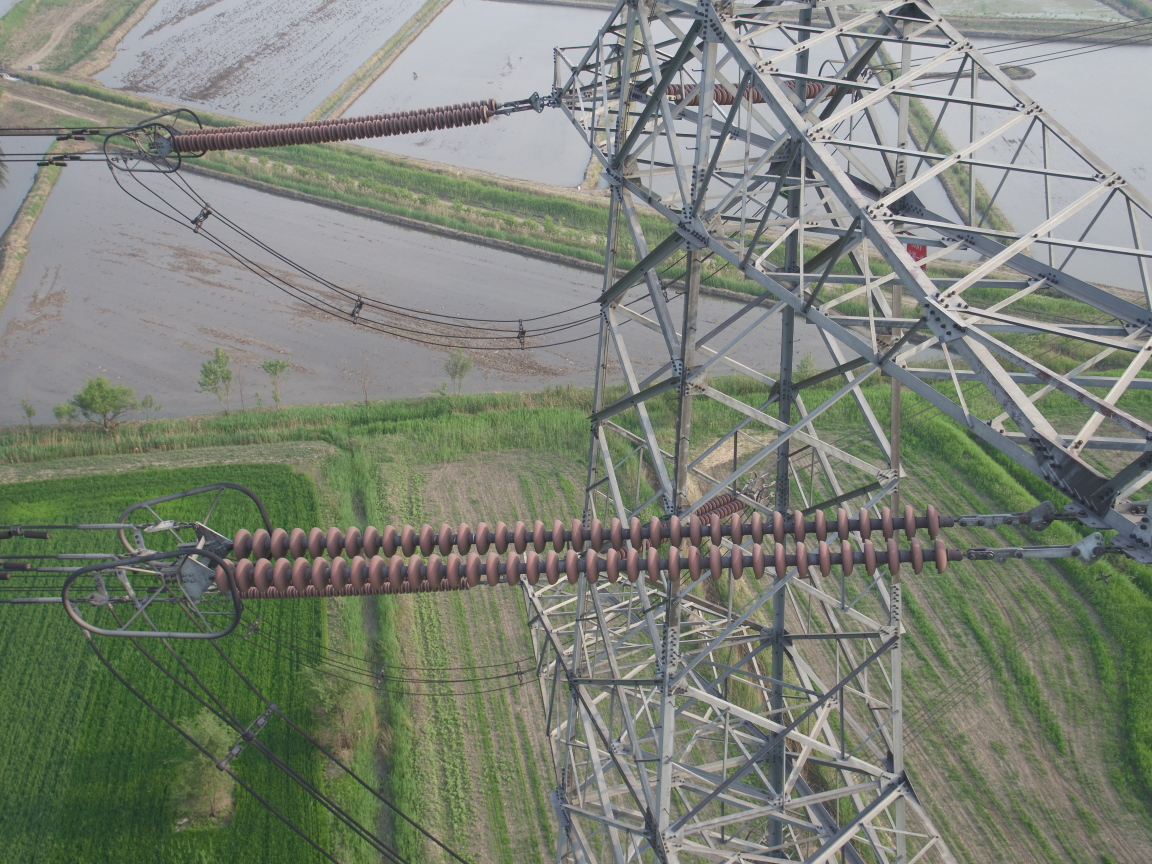insulator: (196, 503, 1013, 595), (157, 95, 517, 153)
